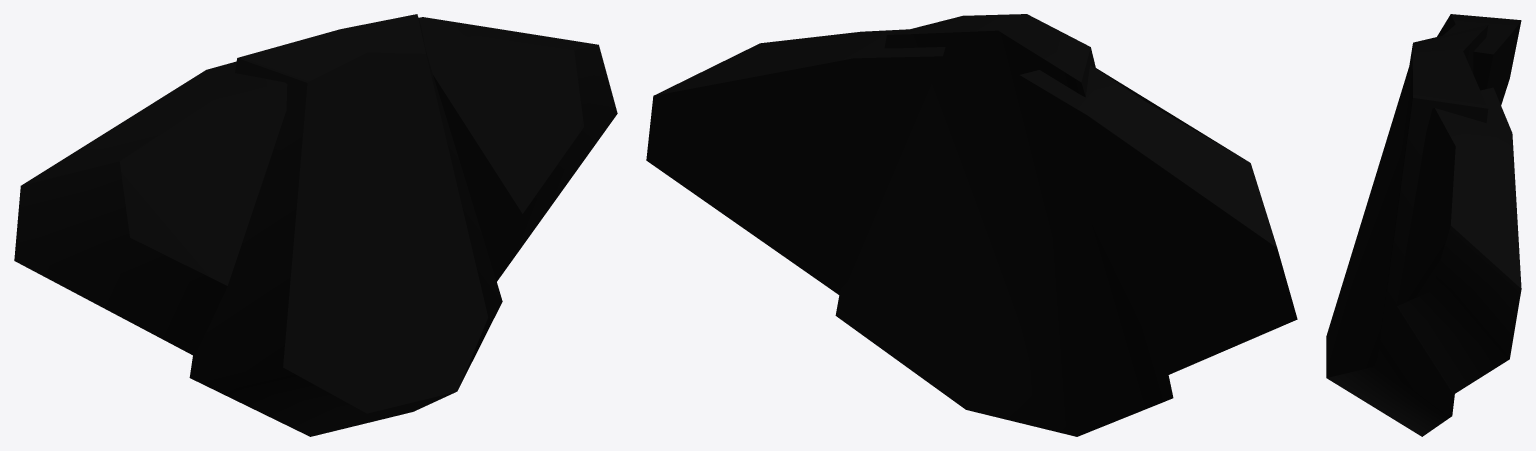
Rendered from Hair_22.fbx.
3 views of the same model, side by side, from view 1: azimuth 30°, elevation 25°; view 2: azimuth 150°, elevation 25°; view 3: azimuth 270°, elevation 25° (orthographic). The views are drawn at different scales.
Parts seen in each view (by area): view 1: Hair_22; view 2: Hair_22; view 3: Hair_22.
Boxes of the visible parts, x1,y1,x2,y2 form: Hair_22: (14, 14, 617, 436); Hair_22: (646, 14, 1297, 436); Hair_22: (1326, 14, 1521, 436).
Size of the model in its own units: 56.45 by 33.93 by 16.58.
